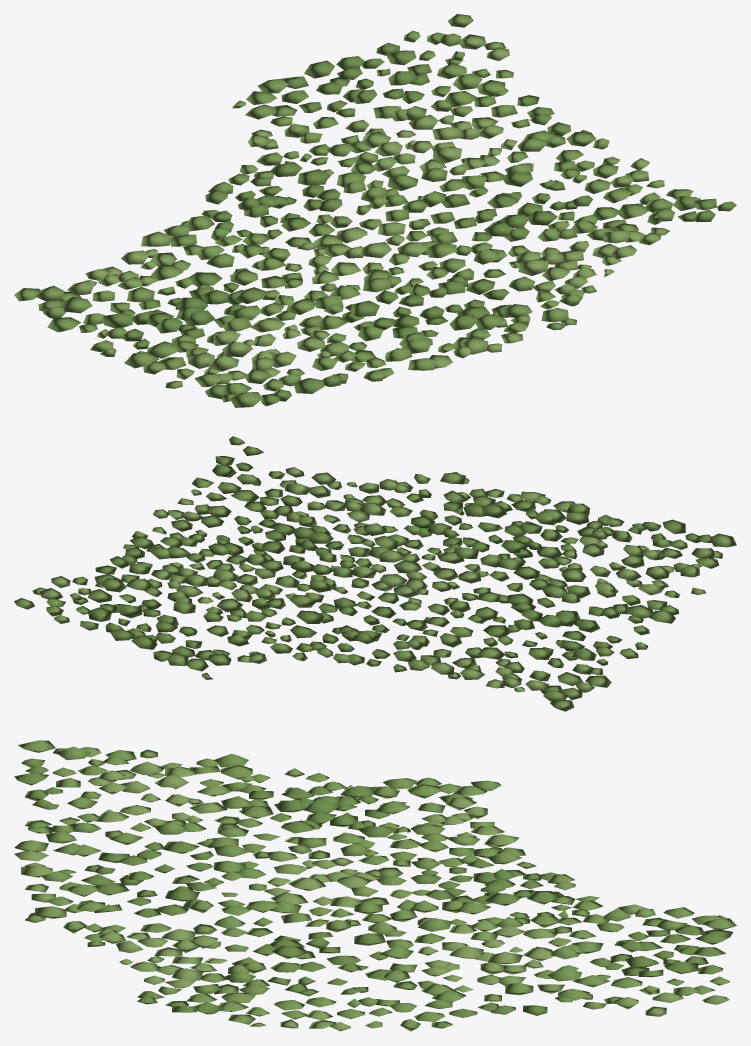
Rendered from canopy-1-5--2.glb.
3 views of the same model, one above another, from view 1: azimuth 30°, elevation 25°; view 2: azimuth 150°, elevation 25°; view 3: azimuth 270°, elevation 25° (orthographic). The views are drawn at different scales.
Bounding box in the file's own units: 515 × 67.5 × 515.
1 material, 1 textured.
